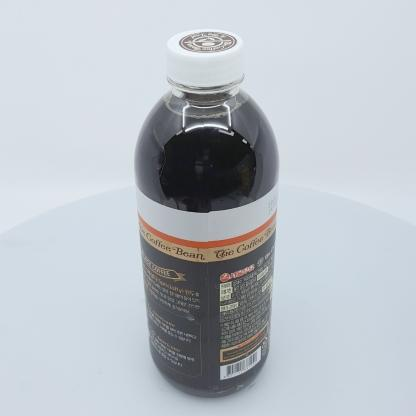--------: (134, 29, 280, 398)
